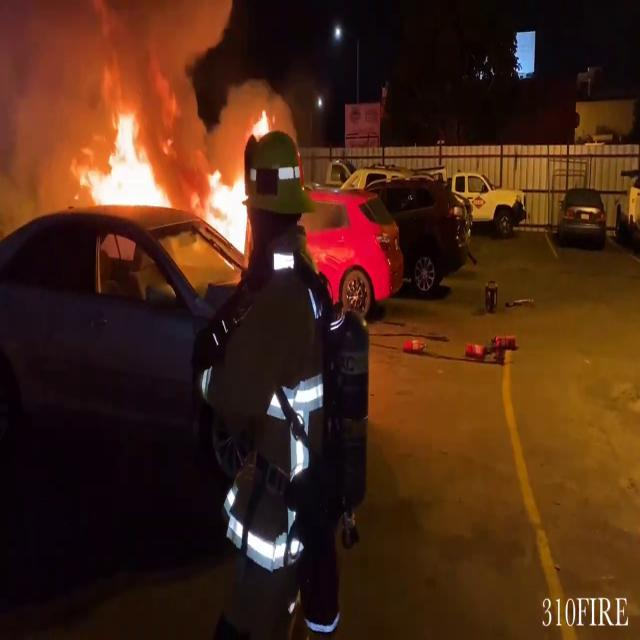Fire: (72, 102, 176, 214), (202, 150, 254, 254)
Smoke: (0, 0, 247, 147)
